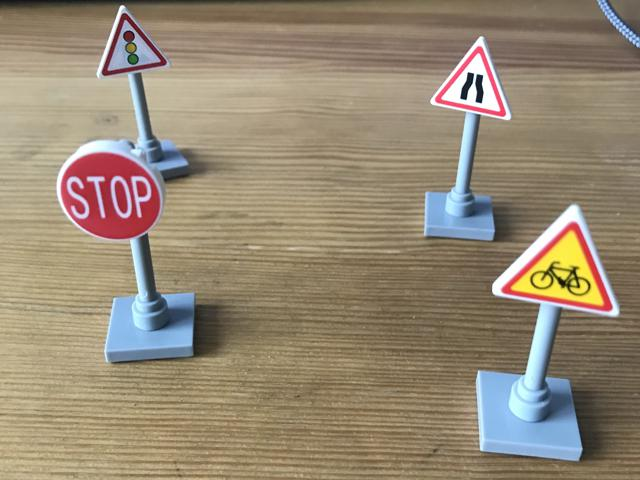lichtzeichenanlage: (95, 4, 168, 77)
radfahrer: (491, 202, 620, 318)
stop: (57, 140, 164, 241)
verengte fahrbahn: (428, 34, 511, 122)
